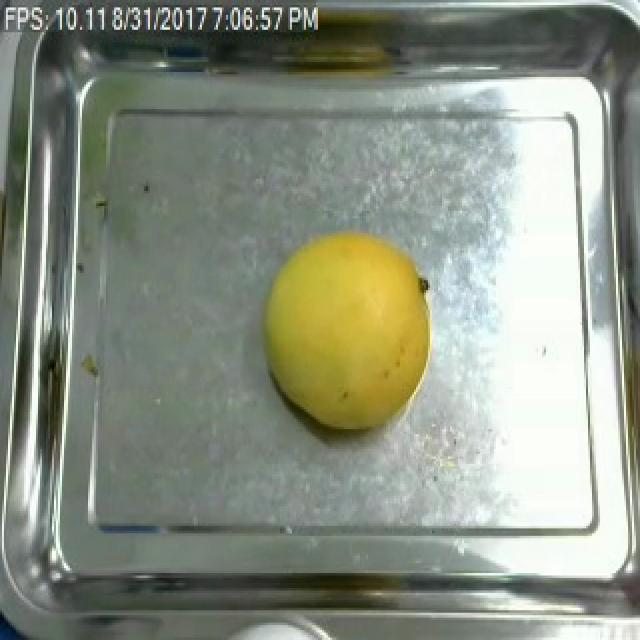fruit: (250, 220, 440, 442)
